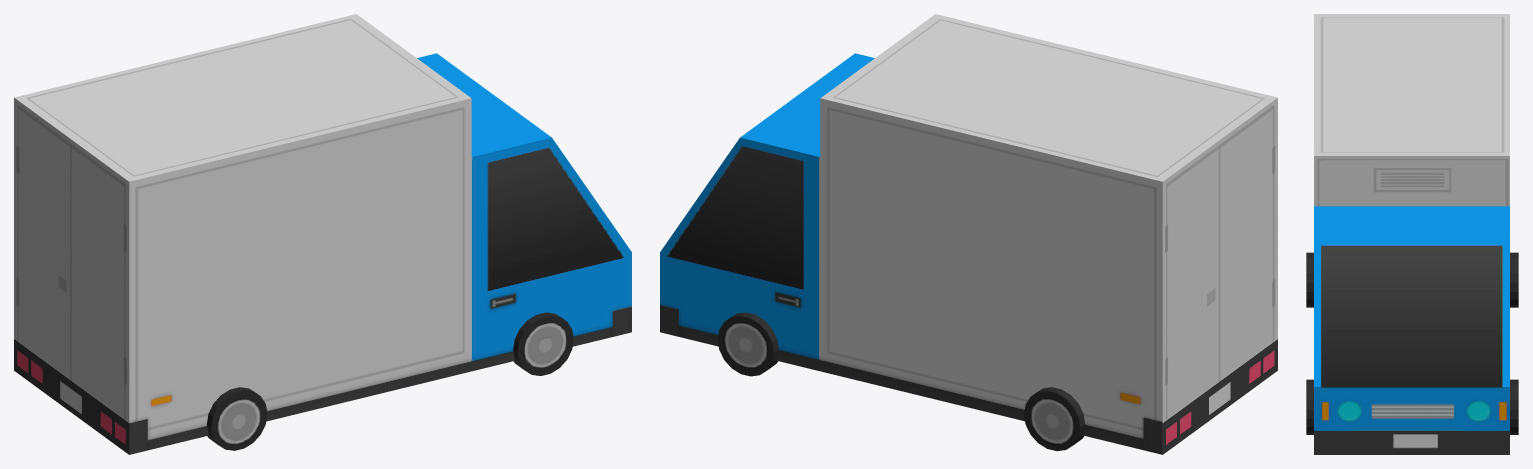
The model's file is truk1.glb.
3 views of the same model, side by side, from view 1: azimuth 30°, elevation 25°; view 2: azimuth 150°, elevation 25°; view 3: azimuth 270°, elevation 25° (orthographic). The views are drawn at different scales.
Visible parts, largest first — view 1: node_id16; view 2: node_id16; view 3: node_id16.
Part boxes in pixels (<box>): node_id16: <box>14,14,631,454</box>; node_id16: <box>660,14,1277,454</box>; node_id16: <box>1306,14,1518,454</box>.
Bounding box in the file's own units: 0.0463 × 0.0256 × 0.0199.
1 material, 1 textured.
